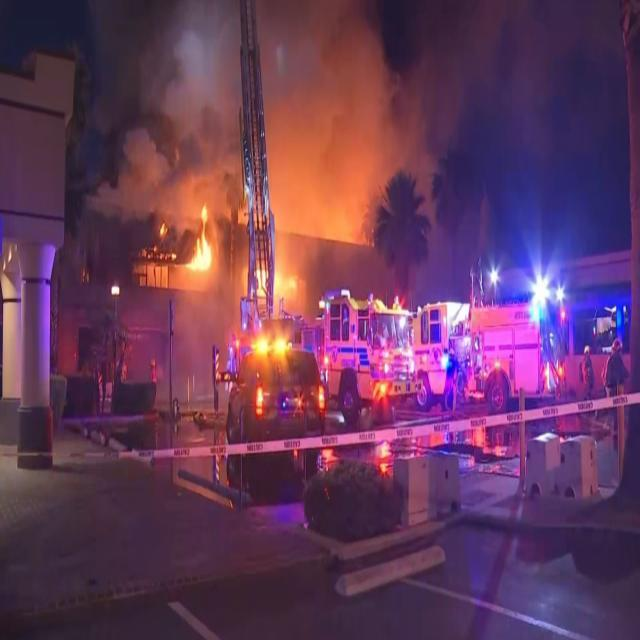Fire: (172, 187, 324, 372)
Smoke: (110, 14, 406, 198)
